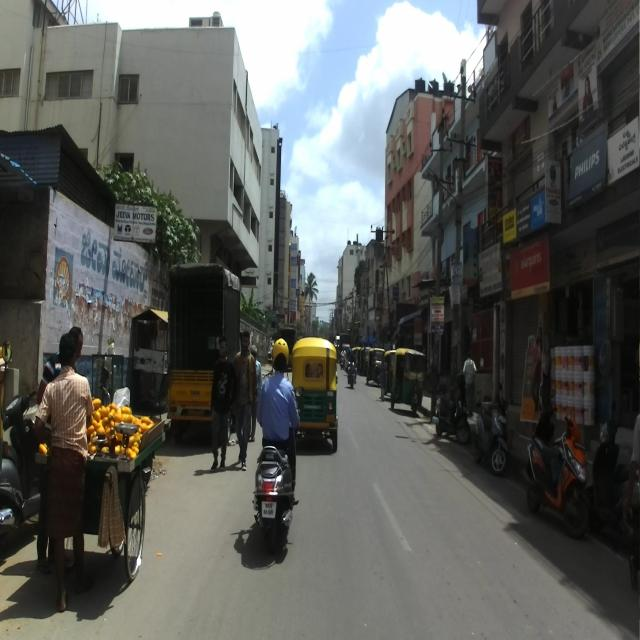autorickshaw: (289, 336, 339, 452)
scooter: (252, 385, 304, 556), (584, 400, 640, 556), (525, 415, 591, 540), (0, 389, 41, 552), (473, 383, 508, 478), (432, 373, 471, 445)
truck: (166, 262, 242, 442)
